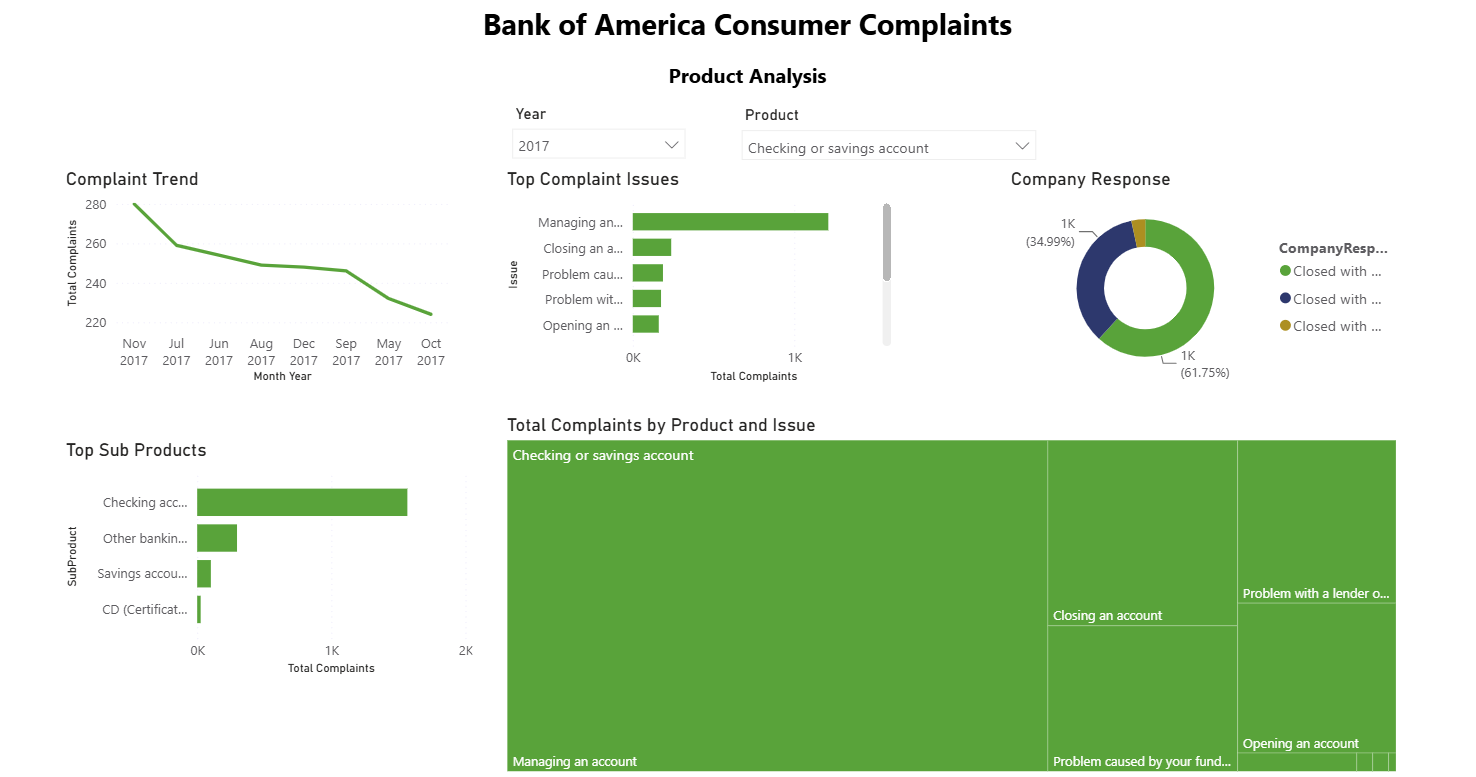

This screenshot's page, from the dashboard's own definition file:
{"tool":"powerbi","page":{"name":"Product Analysis","canvas":[1280,720],"ordinal":1},"visuals":[{"type":"textbox","box":[9.7,0,1269.7,92.4],"z":0},{"type":"slicer","fields":{"Values":["Date.Year"]},"box":[416.8,92.4,180,64.9],"z":1},{"type":"slicer","fields":{"Values":["Consumer Complaints.Product"]},"box":[629.2,94.1,291.9,63.2],"z":2},{"type":"lineChart","title":"Complaint Trend","fields":{"Category":["Date.Month Year"],"Y":["Consumer Complaints.Total Complaints"]},"box":[9.7,157.3,364.9,202.7],"z":3},{"type":"clusteredBarChart","title":"Top Complaint Issues","fields":{"Category":["Consumer Complaints.Issue"],"Y":["Consumer Complaints.Total Complaints"]},"box":[416.8,157.3,364.9,202.7],"z":4},{"type":"donutChart","title":"Company Response","fields":{"Category":["Consumer Complaints.CompanyResponse"],"Y":["Consumer Complaints.Total Complaints"]},"box":[883.8,157.3,364.9,202.7],"z":5},{"type":"clusteredBarChart","title":"Top Sub Products","fields":{"Y":["Consumer Complaints.Total Complaints"],"Category":["Consumer Complaints.SubProduct"]},"box":[9.7,407,385.9,222.2],"z":6},{"type":"treemap","fields":{"Values":["Consumer Complaints.Total Complaints"],"Details":["Consumer Complaints.Issue"],"Group":["Consumer Complaints.Product"]},"box":[416.8,384.3,831.9,335.7],"z":7}]}

Visuals, with their boxes on the page's 1280x720 design canvas (x1, y1, x2, y2). These are canvas units, not pixel positions in the 1476x777 screenshot, which may show the page scaled, cropped or inside an application window:
textbox: BBox(10, 0, 1279, 92)
slicer - Date.Year: BBox(417, 92, 597, 157)
slicer - Consumer Complaints.Product: BBox(629, 94, 921, 157)
"Complaint Trend" lineChart: BBox(10, 157, 375, 360)
"Top Complaint Issues" clusteredBarChart: BBox(417, 157, 782, 360)
"Company Response" donutChart: BBox(884, 157, 1249, 360)
"Top Sub Products" clusteredBarChart: BBox(10, 407, 396, 629)
treemap - Consumer Complaints.Total Complaints x Consumer Complaints.Issue: BBox(417, 384, 1249, 720)
